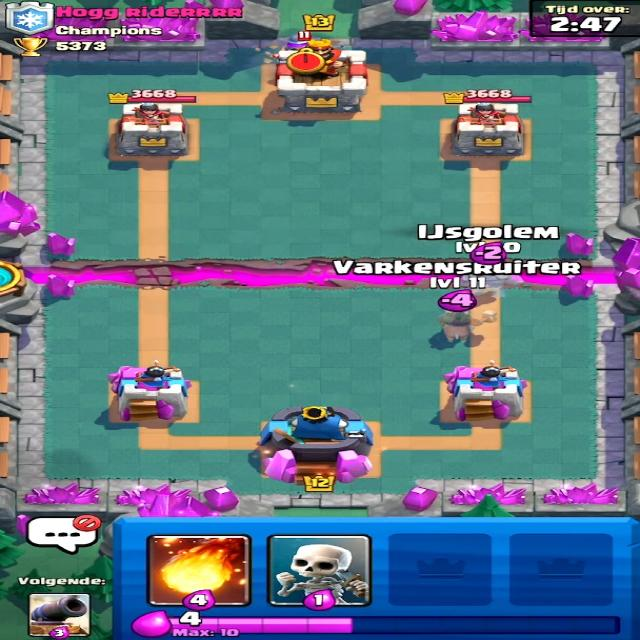Fireball_Card: (158, 537, 244, 600)
Skeleton_Card: (266, 532, 372, 607)
